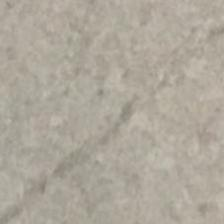Non_Crack: (11, 22, 224, 202)
